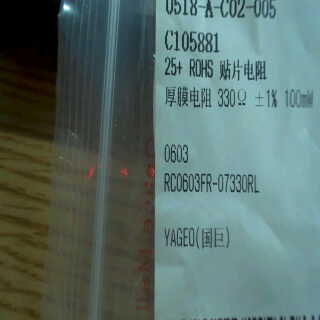330R: (216, 84, 249, 110)
